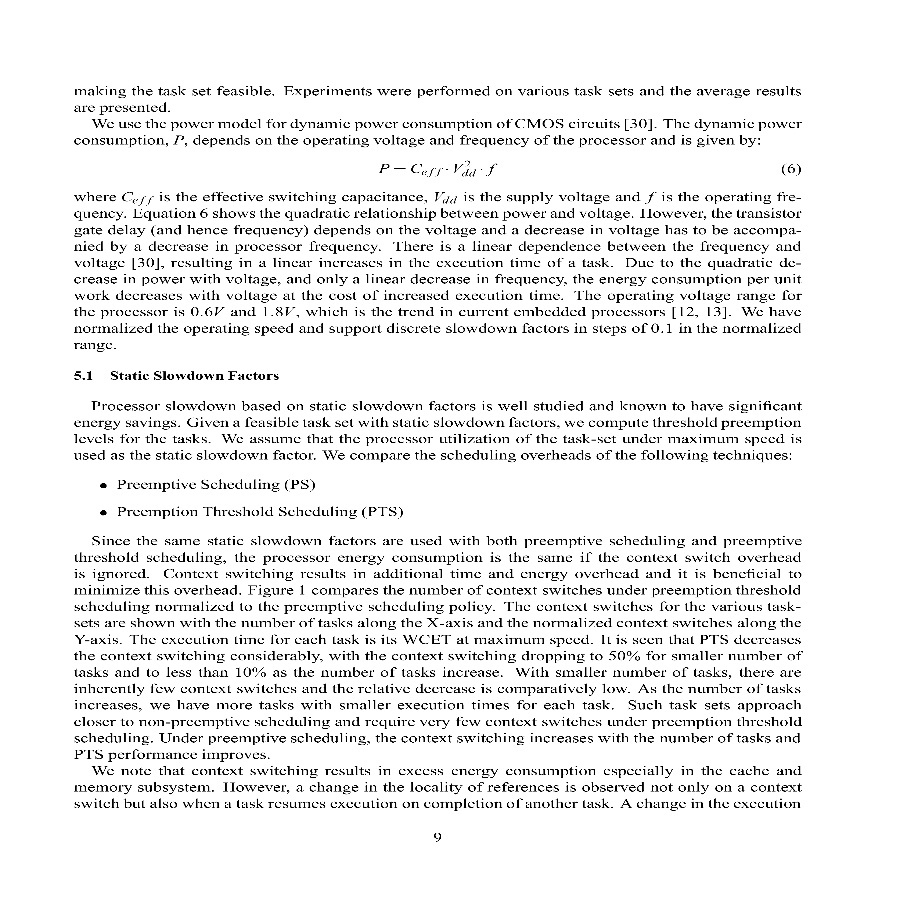eq: (377, 158, 501, 181)
